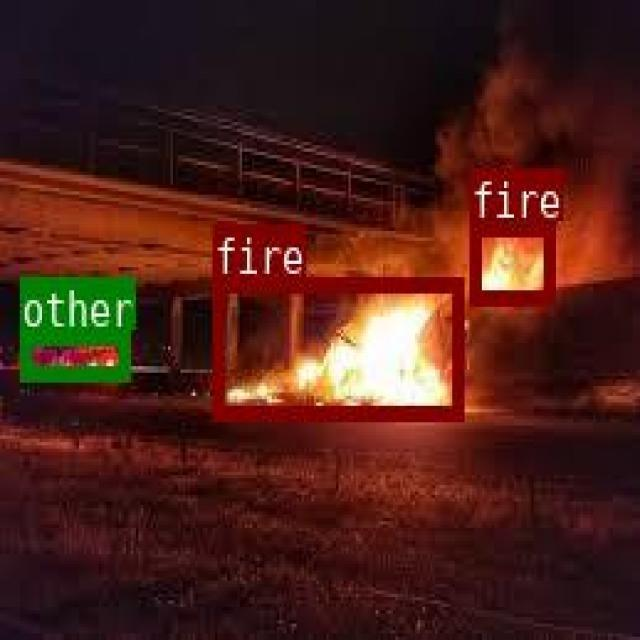fire: (211, 275, 462, 417), (467, 220, 553, 301)
